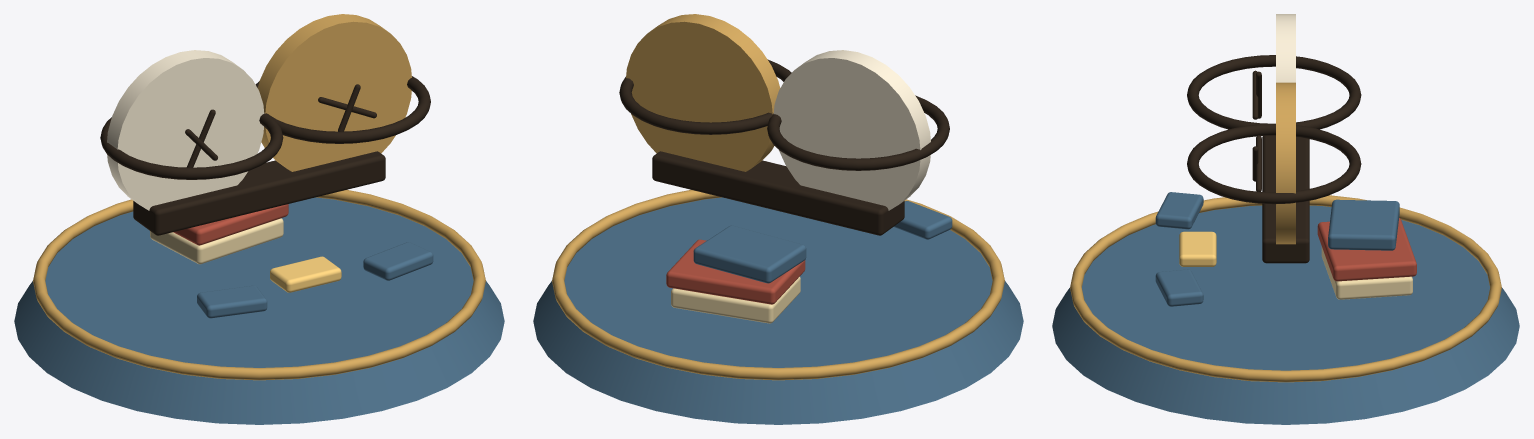
File: dual-clock-decision.glb
3 views of the same model, side by side, from view 1: azimuth 30°, elevation 25°; view 2: azimuth 150°, elevation 25°; view 3: azimuth 270°, elevation 25° (orthographic). The views are drawn at different scales.
Parts seen in each view (by area): view 1: asset-plinth, clock-face (×2), plinth-rim, system-switch, clock-rim (×2), decision-path (×3), book-pages, book-cover; view 2: asset-plinth, clock-face (×2), plinth-rim, system-switch, clock-rim (×2), book-cover-small, book-cover, book-pages, decision-path; view 3: asset-plinth, plinth-rim, clock-rim (×2), clock-face (×2), decision-path (×3), system-switch, book-cover-small, book-cover, book-pages.
Boxes of the visible parts, box(x1,y1,x2,y2) form: asset-plinth: box(14, 197, 504, 424); clock-face (×2): box(107, 14, 411, 210); plinth-rim: box(33, 190, 485, 380); system-switch: box(133, 151, 385, 235); clock-rim (×2): box(100, 76, 430, 179); decision-path (×3): box(197, 242, 433, 318); book-pages: box(150, 218, 283, 264); book-cover: box(173, 204, 288, 245); asset-plinth: box(533, 197, 1023, 424); clock-face (×2): box(626, 14, 930, 210); plinth-rim: box(552, 190, 1004, 380); system-switch: box(652, 151, 904, 235); clock-rim (×2): box(619, 59, 949, 170); book-cover-small: box(693, 225, 806, 283); book-cover: box(666, 239, 805, 304); book-pages: box(671, 276, 800, 323); decision-path: box(893, 201, 952, 239); asset-plinth: box(1052, 205, 1519, 424); plinth-rim: box(1070, 195, 1501, 382); clock-rim (×2): box(1187, 55, 1361, 204); clock-face (×2): box(1276, 14, 1295, 244); decision-path (×3): box(1155, 192, 1216, 306); system-switch: box(1262, 135, 1309, 263); book-cover-small: box(1328, 199, 1399, 250); book-cover: box(1317, 218, 1416, 281); book-pages: box(1321, 246, 1412, 299).
Bounding box in the file's own units: 2.76 × 1.76 × 2.76.
